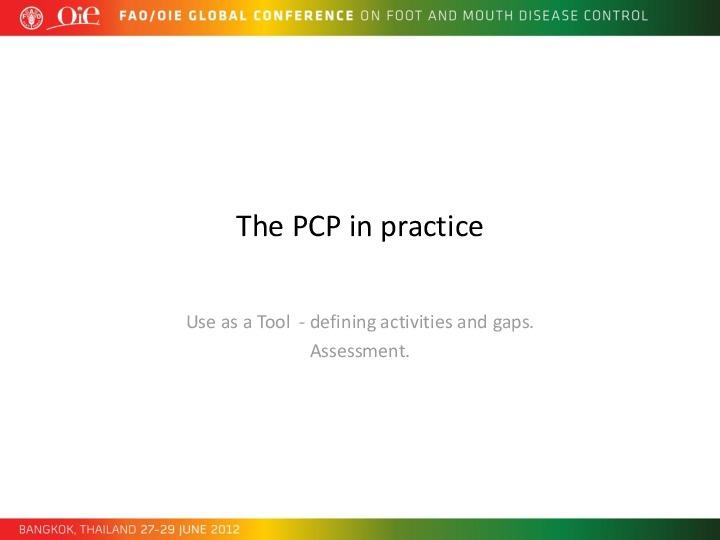subtitle: (175, 295, 600, 391), (226, 199, 495, 256)
title: (110, 1, 655, 39)
